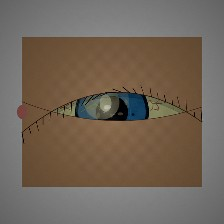corneal_ulcer: (73, 80, 130, 125)
